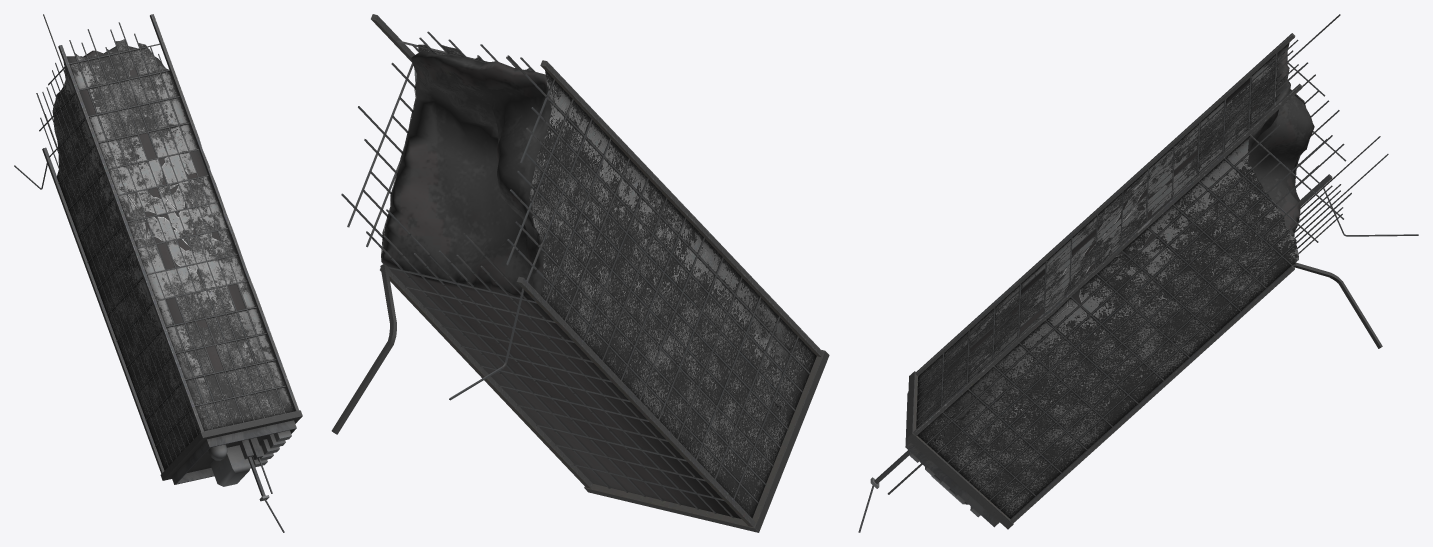
Rendered from skill_warupuru_attack.fbx.
The picture shows the model from 3 angles, left to right: view 1: azimuth 30°, elevation 25°; view 2: azimuth 150°, elevation 25°; view 3: azimuth 270°, elevation 25°; orthographic projection. The views are drawn at different scales.
Visible parts, largest first — view 1: groundTopGlassTop_ABA_geo, groundTopFrame_geo, groundTopGlassSideB_geo, groundTopProp_geo, groundTopInside_geo; view 2: groundTopGlassSideB_geo, groundTopInside_geo, groundTopFrame_geo, groundTopProp_geo; view 3: groundTopGlassSideA_AAA_geo, groundTopFrame_geo, groundTopGlassTop_ABA_geo, groundTopInside_geo, groundTopProp_geo.
Part boxes in pixels (left/top/right/bottom): groundTopGlassTop_ABA_geo: left=69, top=39, right=294, bottom=431; groundTopFrame_geo: left=14, top=14, right=299, bottom=473; groundTopGlassSideB_geo: left=52, top=62, right=199, bottom=470; groundTopProp_geo: left=160, top=410, right=302, bottom=532; groundTopInside_geo: left=66, top=46, right=245, bottom=383; groundTopGlassSideB_geo: left=529, top=70, right=816, bottom=518; groundTopInside_geo: left=382, top=51, right=741, bottom=518; groundTopFrame_geo: left=331, top=14, right=822, bottom=527; groundTopProp_geo: left=584, top=350, right=829, bottom=532; groundTopGlassSideA_AAA_geo: left=917, top=136, right=1298, bottom=518; groundTopFrame_geo: left=913, top=14, right=1418, bottom=523; groundTopGlassTop_ABA_geo: left=916, top=52, right=1286, bottom=428; groundTopInside_geo: left=958, top=47, right=1314, bottom=361; groundTopProp_geo: left=858, top=371, right=1013, bottom=532.
Size of the model in its own units: 12.72 by 44.48 by 46.17.
Materials: 4 (4 with a texture image).
